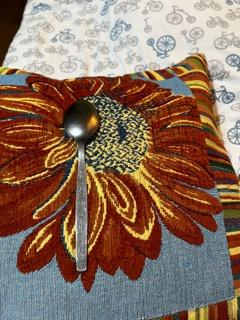spoon: (62, 97, 102, 273)
